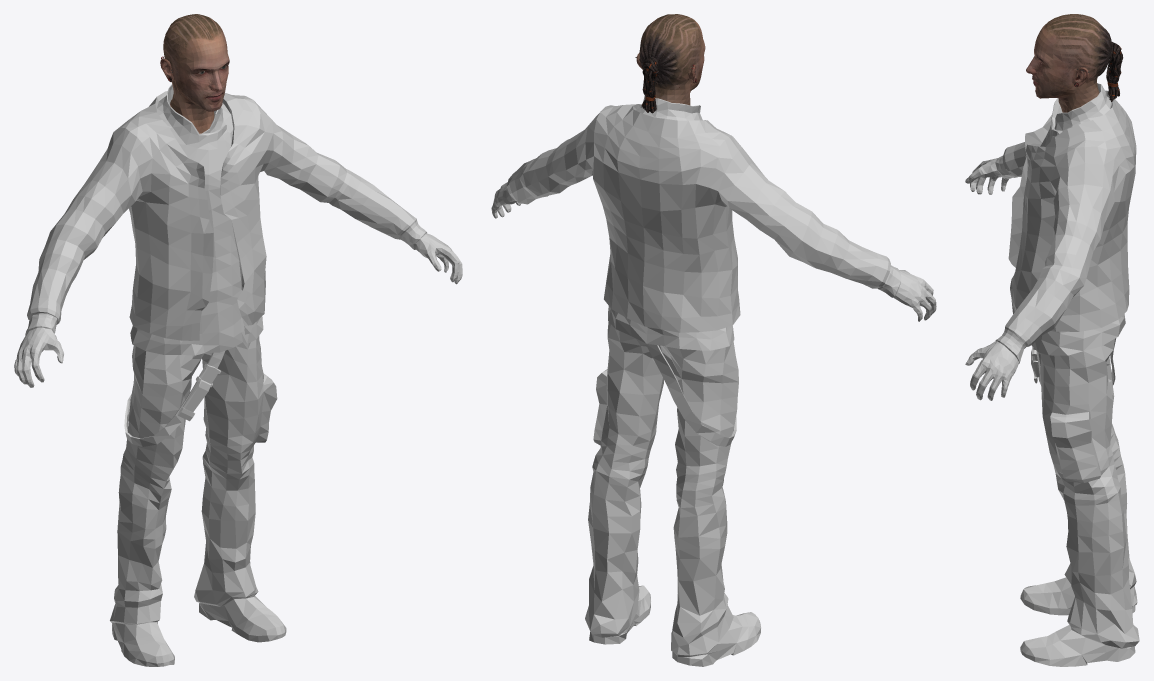
File: badrequest.obj
3 views of the same model, side by side, from view 1: azimuth 30°, elevation 25°; view 2: azimuth 150°, elevation 25°; view 3: azimuth 270°, elevation 25° (orthographic).
Visible parts, largest first — view 1: 335c03b0_obj, 364c3638_obj; view 2: 335c03b0_obj, 364c3638_obj, 36597630_obj; view 3: 335c03b0_obj, 364c3638_obj, 36597630_obj.
Boxes of the visible parts, x1=… form: 335c03b0_obj: x1=14, y1=84, x2=462, y2=666; 364c3638_obj: x1=160, y1=14, x2=229, y2=133; 335c03b0_obj: x1=491, y1=95, x2=936, y2=666; 364c3638_obj: x1=635, y1=14, x2=705, y2=105; 36597630_obj: x1=641, y1=57, x2=659, y2=113; 335c03b0_obj: x1=965, y1=83, x2=1139, y2=666; 364c3638_obj: x1=1026, y1=14, x2=1111, y2=112; 36597630_obj: x1=1106, y1=42, x2=1123, y2=101.
Size of the model in its own units: 4 by 5.39 by 1.38.
